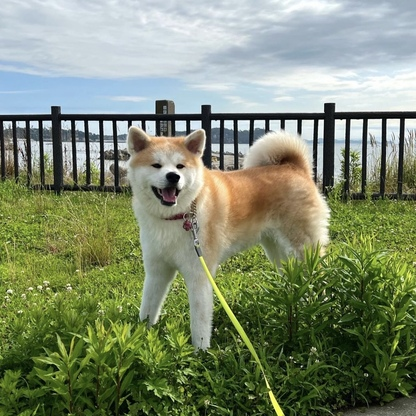akita: (123, 123, 336, 359)
